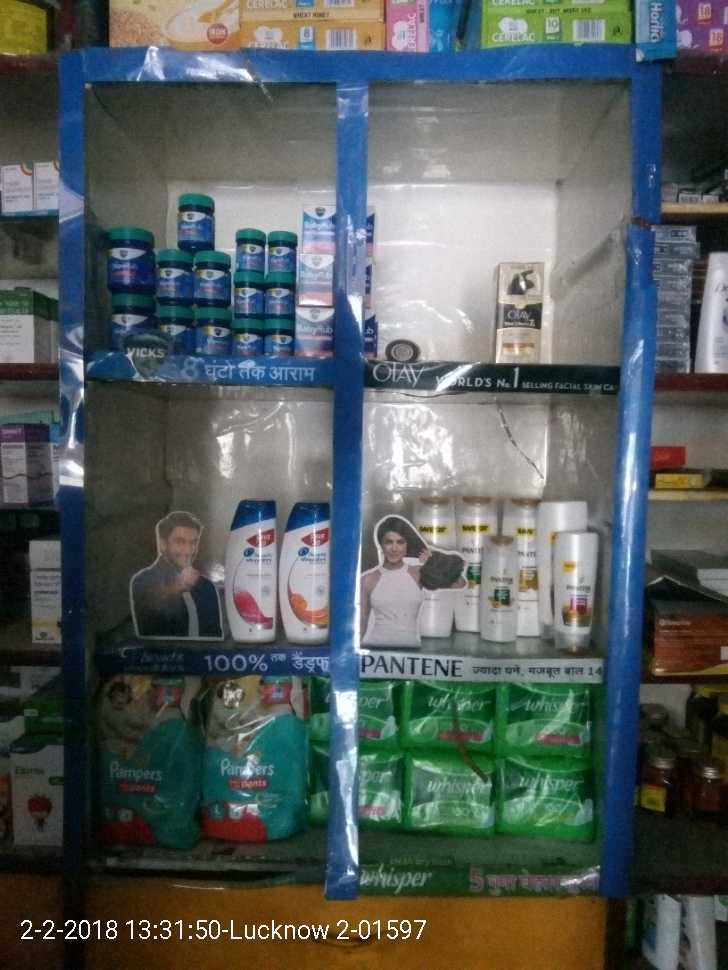beauty: (225, 501, 281, 643), (281, 500, 333, 644), (490, 258, 552, 361), (553, 530, 604, 653), (479, 529, 525, 644)
pharmacy: (88, 673, 203, 854), (202, 679, 313, 841), (499, 758, 599, 832), (404, 758, 500, 835), (404, 679, 499, 755), (503, 683, 593, 762), (106, 225, 161, 297), (190, 248, 235, 311), (150, 251, 196, 312), (171, 194, 220, 248), (265, 228, 303, 290), (232, 223, 270, 275)
